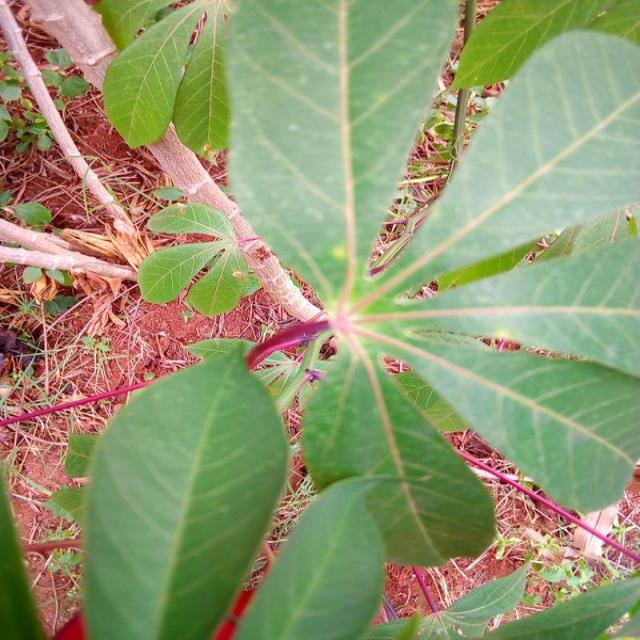cassava leaf: (222, 0, 461, 314), (80, 342, 290, 638), (299, 342, 498, 568), (233, 473, 386, 638)
